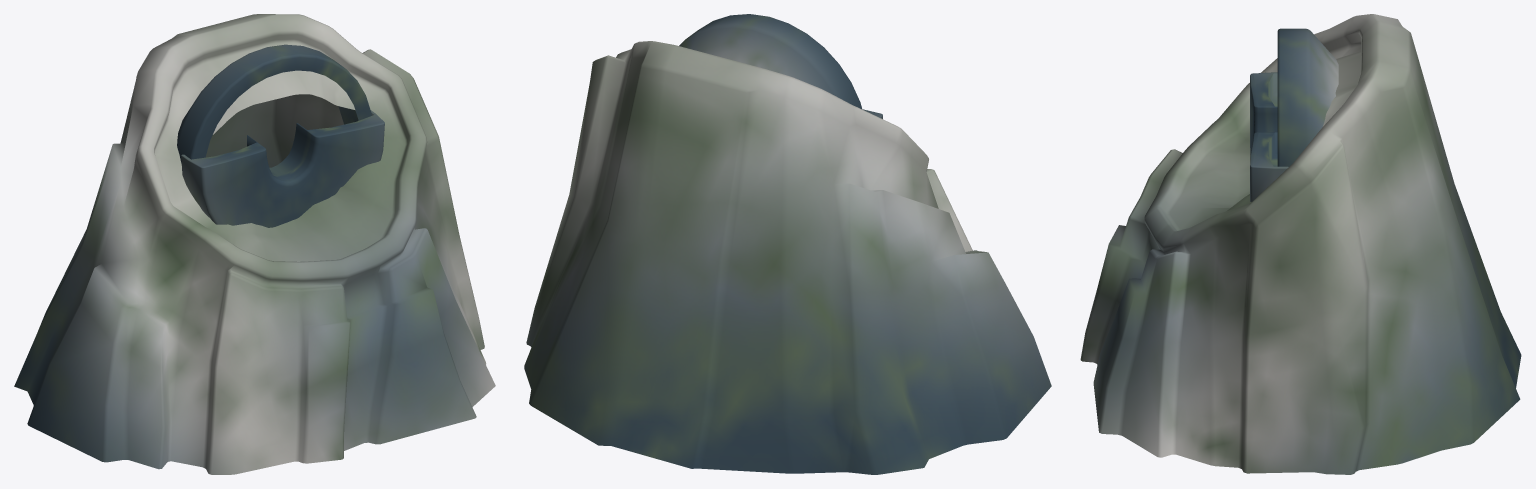
Rendered from Schijven_PuzzpleStoneBlok.fbx.
The picture shows the model from 3 angles, left to right: view 1: azimuth 30°, elevation 25°; view 2: azimuth 150°, elevation 25°; view 3: azimuth 270°, elevation 25°; orthographic projection. The views are drawn at different scales.
Parts seen in each view (by area): view 1: SchijvenSteen; view 2: SchijvenSteen; view 3: SchijvenSteen.
Part boxes in pixels (x1=…): SchijvenSteen: x1=14, y1=14, x2=495, y2=474; SchijvenSteen: x1=524, y1=14, x2=1051, y2=474; SchijvenSteen: x1=1080, y1=14, x2=1521, y2=474.
Bounding box in the file's own units: 282 × 205 × 242.
